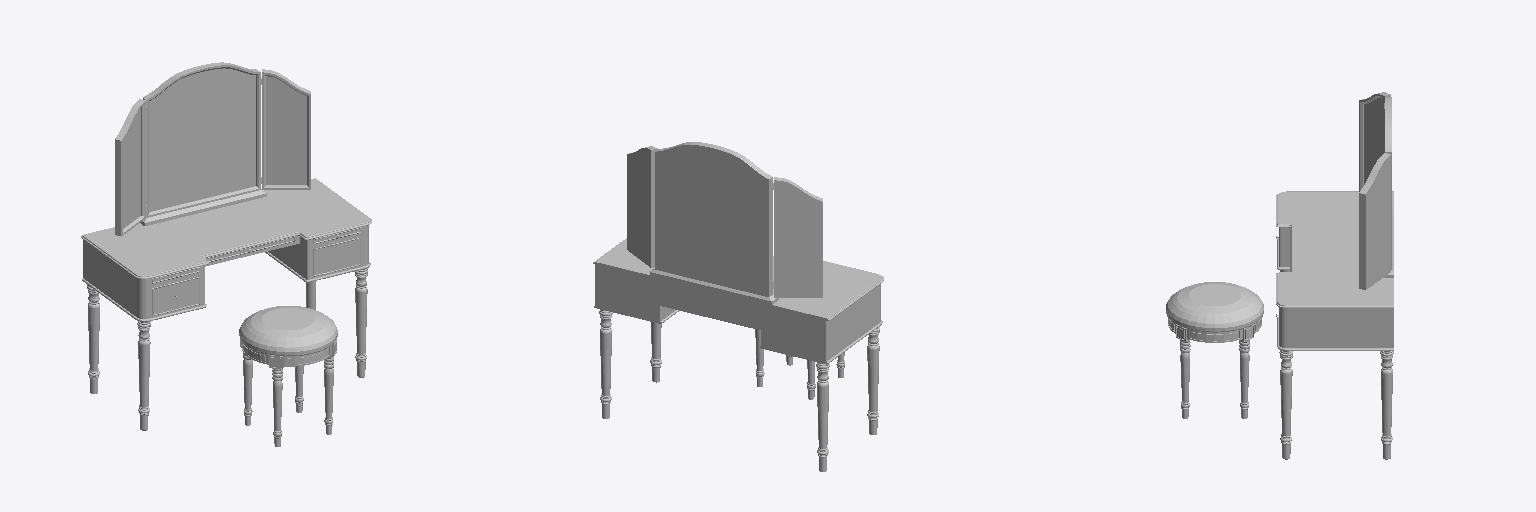
Rendered from Dressing Table.obj.
3 views of the same model, side by side, from view 1: azimuth 30°, elevation 25°; view 2: azimuth 150°, elevation 25°; view 3: azimuth 270°, elevation 25° (orthographic).
Parts seen in each view (by area): view 1: Mirror, Dressing_Table, Stool, Legs, Drawer.002, Drawer.001, Drawer.003; view 2: Mirror, Dressing_Table, Legs, Stool; view 3: Dressing_Table, Mirror, Stool, Legs.
Boxes of the visible parts, x1=… form: Mirror: x1=115, y1=62, x2=310, y2=236; Dressing_Table: x1=81, y1=178, x2=371, y2=321; Stool: x1=239, y1=306, x2=337, y2=446; Legs: x1=87, y1=268, x2=367, y2=430; Drawer.002: x1=151, y1=236, x2=361, y2=317; Drawer.001: x1=151, y1=227, x2=361, y2=284; Drawer.003: x1=204, y1=236, x2=296, y2=263; Mirror: x1=627, y1=142, x2=822, y2=304; Dressing_Table: x1=593, y1=238, x2=883, y2=364; Legs: x1=599, y1=309, x2=879, y2=471; Stool: x1=755, y1=329, x2=844, y2=399; Dressing_Table: x1=1276, y1=191, x2=1393, y2=350; Mirror: x1=1359, y1=92, x2=1393, y2=289; Stool: x1=1166, y1=282, x2=1263, y2=418; Legs: x1=1279, y1=270, x2=1393, y2=459.
Size of the model in its own units: 1.15 by 1.38 by 0.9611.